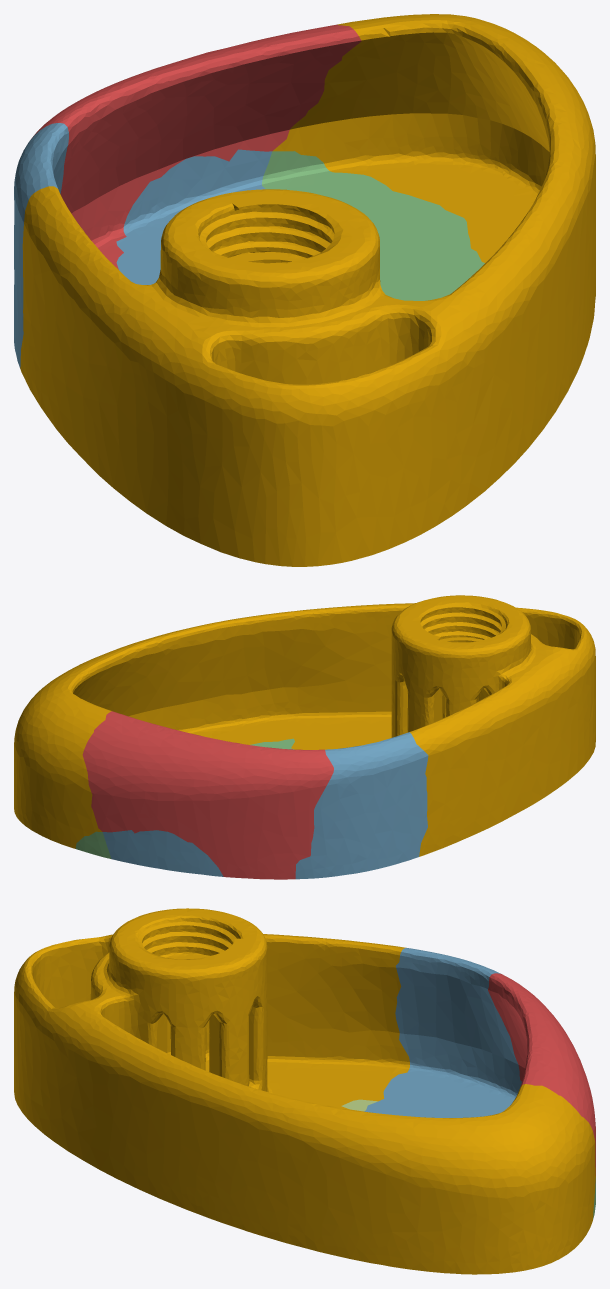
File: fractured_6_6pcs.glb
3 renders of one model, top to bottom at view 1: azimuth 30°, elevation 25°; view 2: azimuth 150°, elevation 25°; view 3: azimuth 270°, elevation 25°, orthographic. The views are drawn at different scales.
Parts seen in each view (by area): view 1: piece_0.obj, piece_1.obj, piece_3.obj, piece_2.obj; view 2: piece_0.obj, piece_1.obj, piece_2.obj, piece_3.obj; view 3: piece_0.obj, piece_2.obj, piece_1.obj.
Part boxes in pixels (left/top/right/bottom): piece_0.obj: left=20, top=14, right=595, bottom=566; piece_1.obj: left=31, top=24, right=361, bottom=269; piece_3.obj: left=262, top=151, right=484, bottom=300; piece_2.obj: left=14, top=123, right=271, bottom=368; piece_0.obj: left=14, top=595, right=595, bottom=856; piece_1.obj: left=82, top=711, right=333, bottom=879; piece_2.obj: left=102, top=732, right=428, bottom=879; piece_3.obj: left=75, top=738, right=294, bottom=858; piece_0.obj: left=14, top=908, right=595, bottom=1274; piece_2.obj: left=364, top=948, right=595, bottom=1184; piece_1.obj: left=488, top=973, right=595, bottom=1175.
Bounding box in the file's own units: 0.8951 × 0.3162 × 1.
